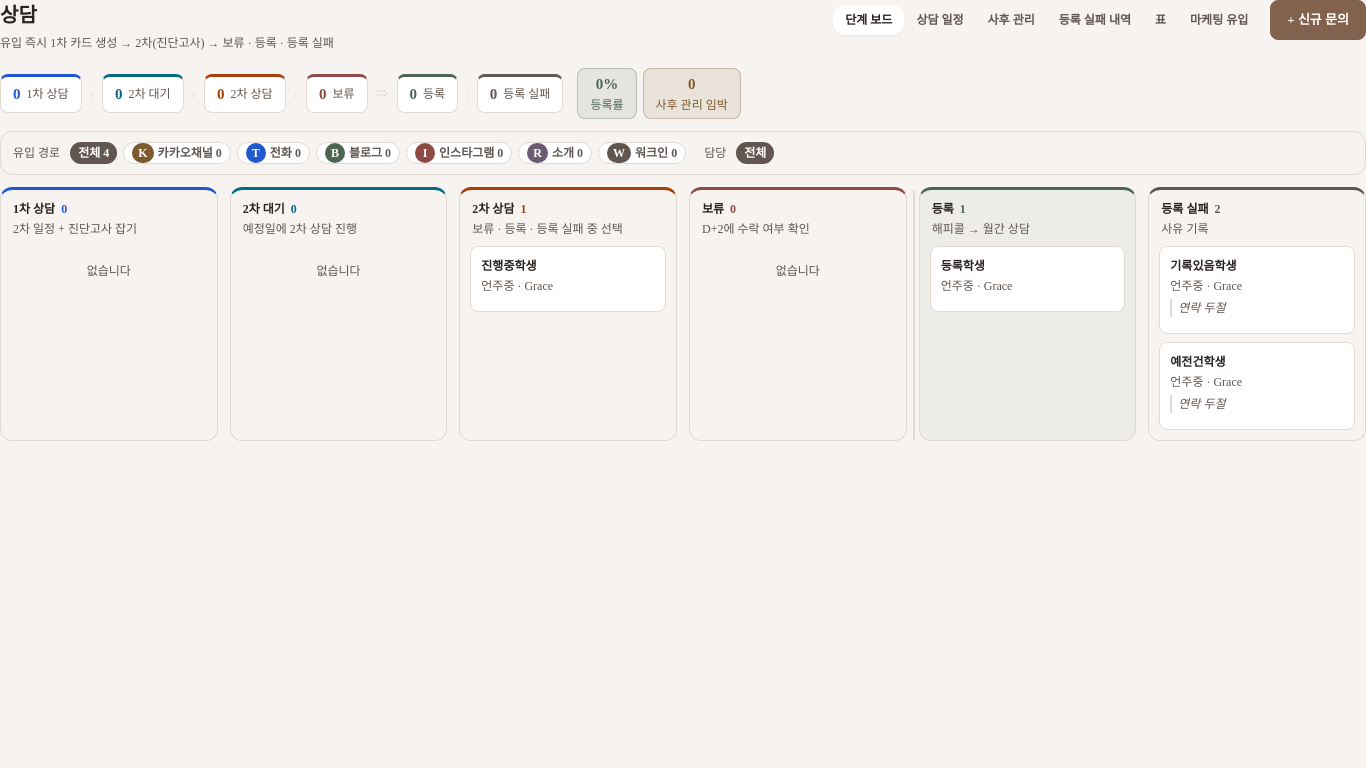
it: 상세 서랍의 사용자 글 (23-20 · P0) › 기록있음학생 상세에 절 번호·결정 번호·필드명·오류 코드가 없다
Expected: the button "진행중학생 언주중 · Grace" is shown, [481,256,655,300]
Click the button "기록있음학생 언주중 · Grace 연락 두절": (1257, 290) [1170,256,1344,322]
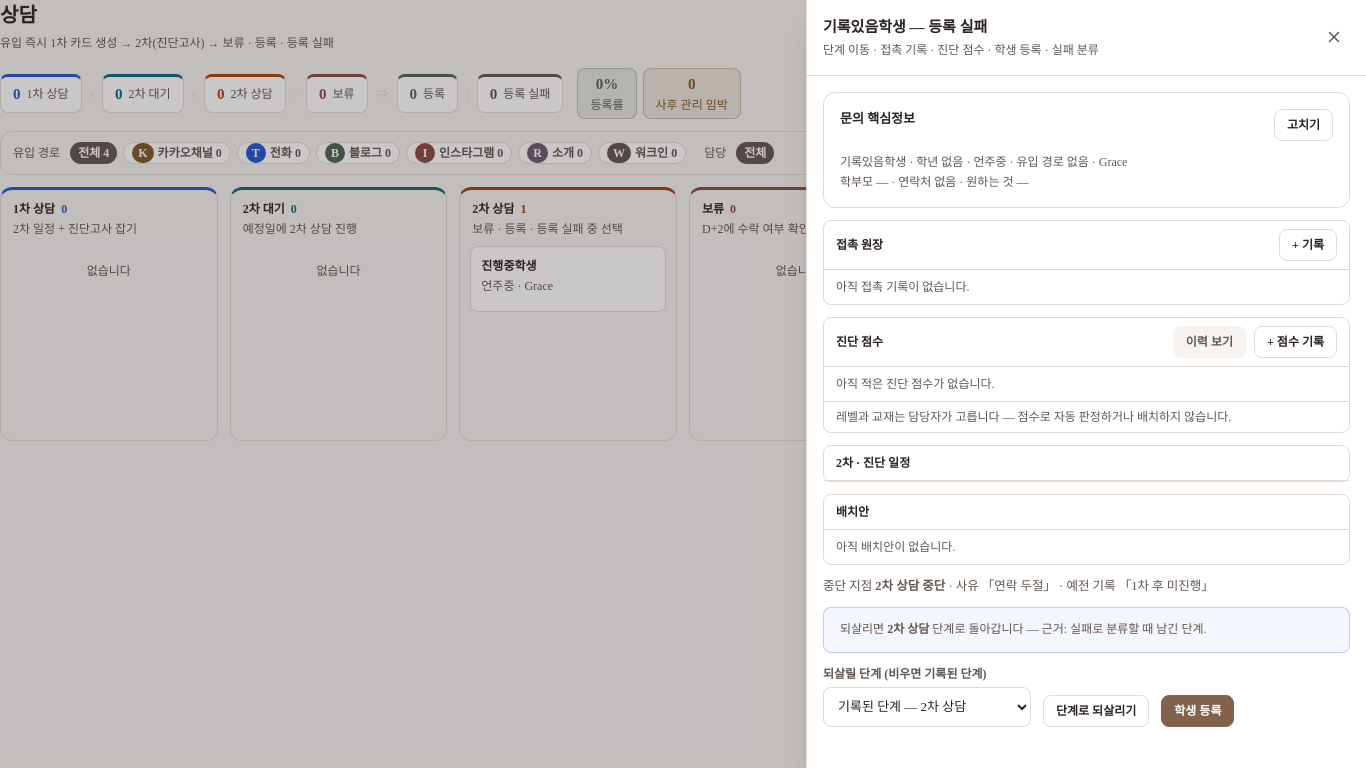
Now the dialog "기록있음학생" is shown, box [806,0,1365,767]
